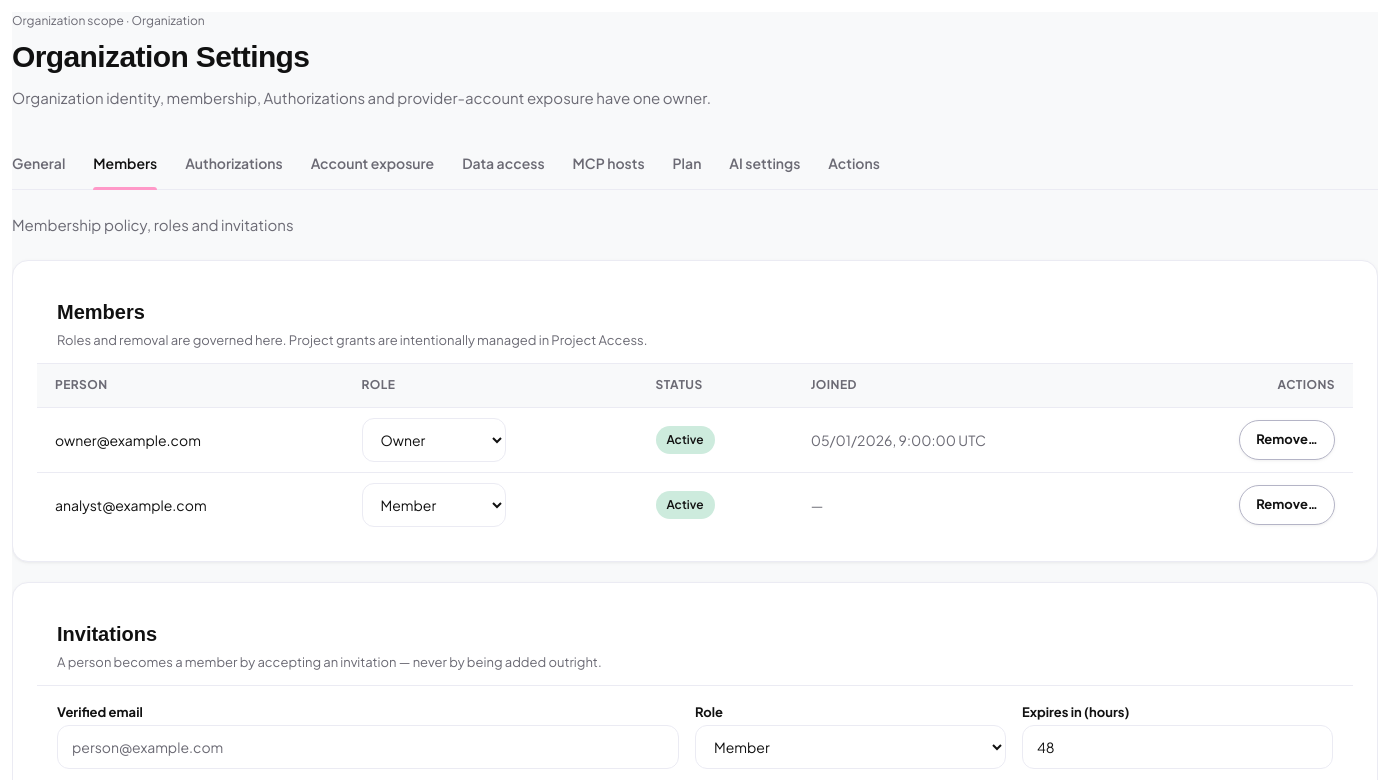
Test case: Members — roles › reports a 409 as the last-owner guard rather than swallowing it
Select "Member" in the dropdown with test id "role-select-owner@example.com" at point(434, 440), box [362, 418, 506, 462]
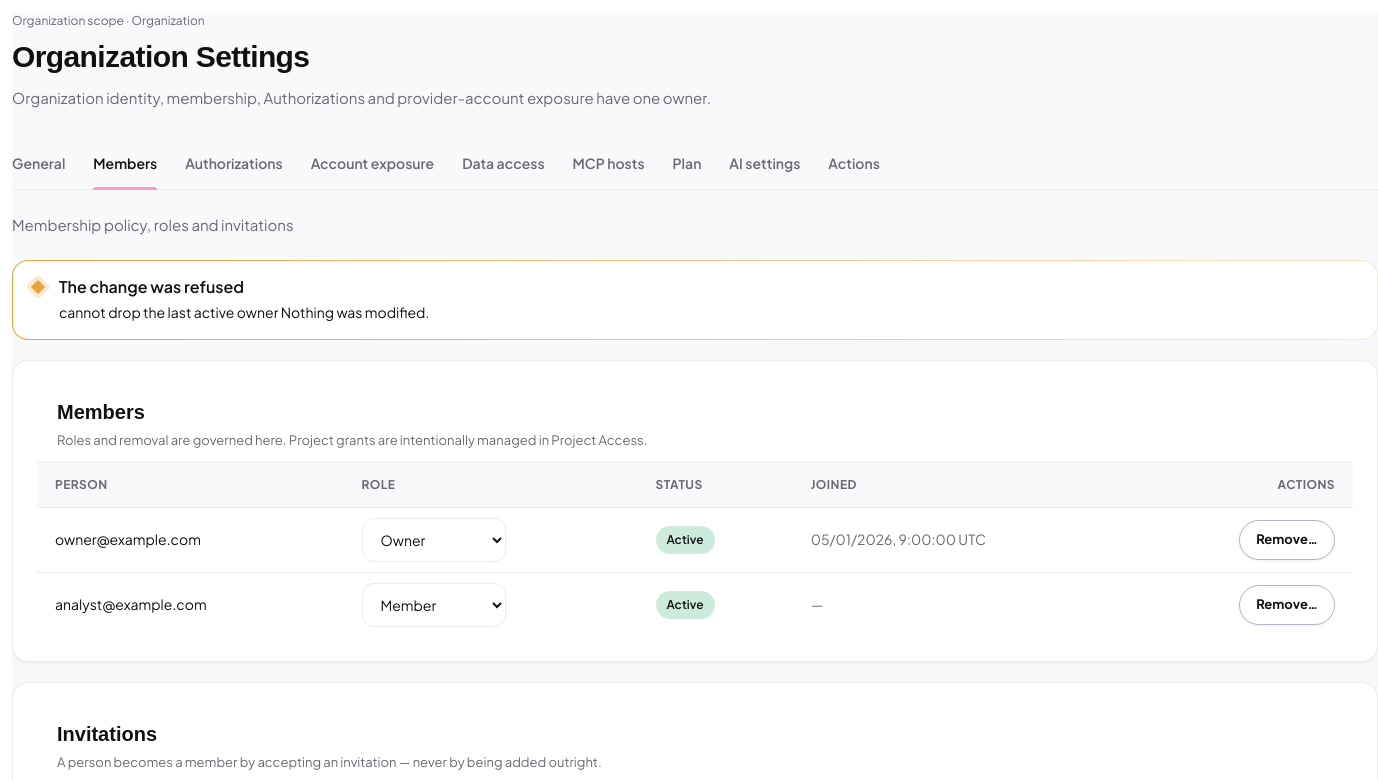
Now the message with test id "members-warning" shows "cannot drop the last active owner", box [59, 303, 278, 321]
Now the message with test id "members-warning" shows "Nothing was modified", box [278, 303, 429, 321]
